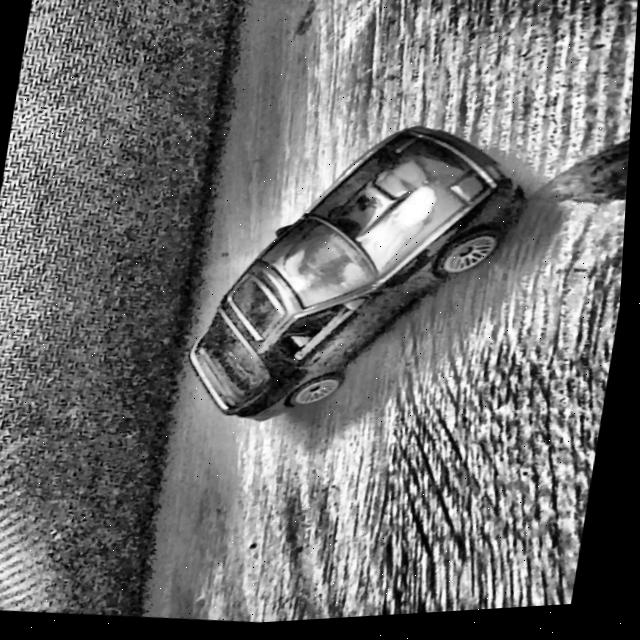car: (182, 105, 542, 452)
